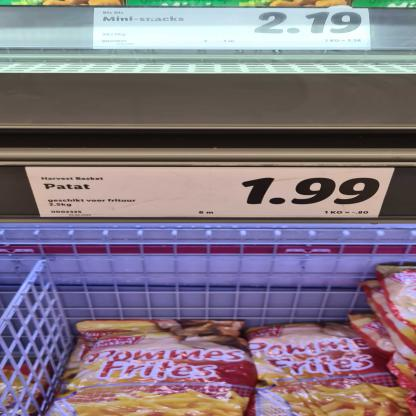prtg: (26, 167, 395, 219)
